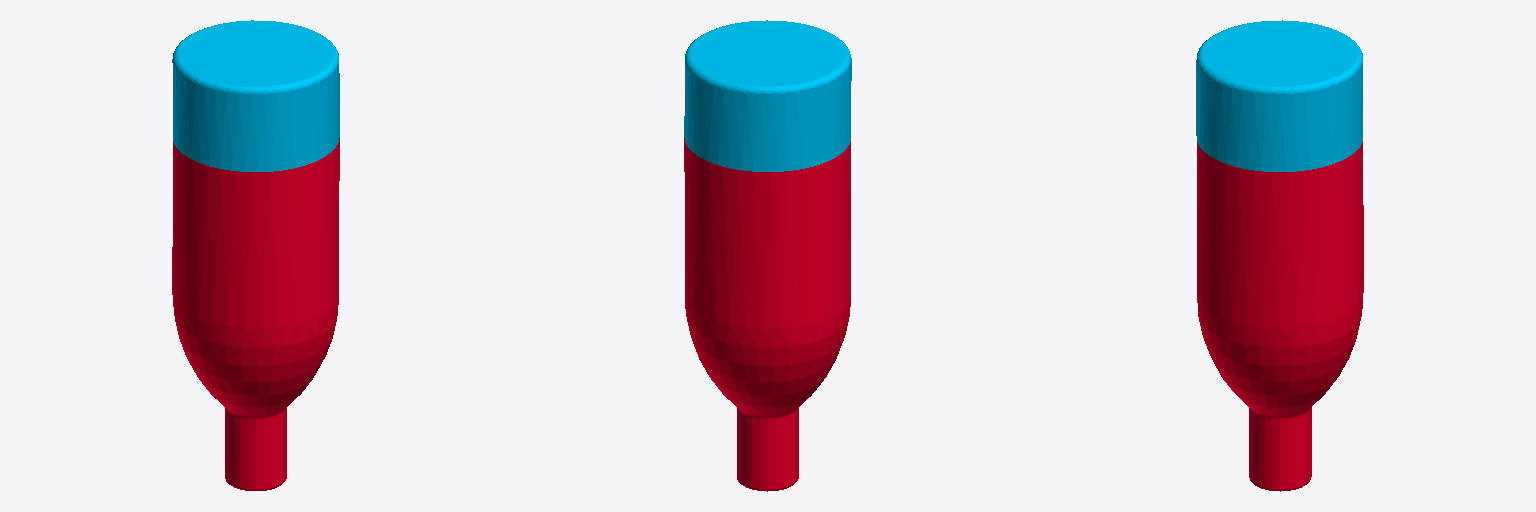
The robot description file, URDF, robot "filled_bottle":
<?xml version="1.0" ?>
<robot name="filled_bottle">
  <link name="baseLink"/>
  <joint name="bottle_to_world" type="fixed">
    <parent link="baseLink"/>
    <child link="bottle_head"/>
    <origin rpy="-1.57 0 0" xyz="0 0 0"/>
  </joint>
  <link name="bottle_head">
    <contact>
      <rolling_friction value="0.001"/>
      <spinning_friction value="0.001"/>
      <restitution value="0.5"/>
    </contact>
    <inertial>
      <origin rpy="0 0 0" xyz="0 134.5 0"/>
      <mass value="0.032"/>
      <inertia ixx="1" ixy="0" ixz="0" iyy="1" iyz="0" izz="1"/>
    </inertial>
    <visual>
      <origin rpy="0 0 0" xyz="0 0 0"/>
      <geometry>
        <mesh filename="package://objects_description/meshes/visual/water_bottle_bottle.obj" scale="1.0 1.0 1.0"/>
      </geometry>
      <material name="red">
        <color rgba="1 0 0.2 0.7"/>
      </material>
    </visual>
    <collision>
      <origin rpy="0 0 0" xyz="0 0 0"/>
      <geometry>
        <mesh filename="package://objects_description/meshes/visual/water_bottle_bottle.obj" scale="1.0 1.0 1.0"/>
      </geometry>
    </collision>
  </link>
  <joint name="bottle_filled_water" type="fixed">
    <parent link="bottle_head"/>
    <child link="bottle_water"/>
    <origin rpy="0 0 0" xyz="0 0 0"/>
  </joint>
  <link name="bottle_water">
    <contact>
      <rolling_friction value="0.001"/>
      <spinning_friction value="0.001"/>
      <restitution value="0.6"/>
    </contact>
    <inertial>
      <origin rpy="0 0 0" xyz="0 22 0"/>
      <mass value="0.173"/>
      <inertia ixx="1" ixy="0" ixz="0" iyy="1" iyz="0" izz="1"/>
    </inertial>
    <visual>
      <origin rpy="0 0 0" xyz="0 0 0"/>
      <geometry>
        <mesh filename="package://objects_description/meshes/visual/water_bottle_water.obj" scale="1.0 1.0 1.0"/>
      </geometry>
      <material name="blue">
        <color rgba="0 0.8 1 0.9"/>
      </material>
    </visual>
    <collision>
      <origin rpy="0 0 0" xyz="0 0 0"/>
      <geometry>
        <mesh filename="package://objects_description/meshes/visual/water_bottle_water.obj" scale="1.0 1.0 1.0"/>
      </geometry>
    </collision>
  </link>
</robot>

--- Render facts (derived) ---
3 views of the same robot in one strip: view 1: azimuth 30°, elevation 25°; view 2: azimuth 150°, elevation 25°; view 3: azimuth 270°, elevation 25° (orthographic).
Model filled_bottle with 3 links and 2 joints (2 fixed), rooted at baseLink, posed all joints at 0.
Visible links, largest first — view 1: bottle_head, bottle_water; view 2: bottle_head, bottle_water; view 3: bottle_head, bottle_water.
Link boxes in pixels (x1,y1,x2,y2): bottle_head: (172,138,339,490); bottle_water: (172,20,339,171); bottle_head: (684,138,850,491); bottle_water: (684,20,851,171); bottle_head: (1197,142,1363,491); bottle_water: (1196,20,1362,171).
Bounding box of the posed robot: 80 × 80.02 × 225 m (x, y, z).
Meshes: 2 distinct files referenced, 2 mesh visuals loaded (2 OBJ).